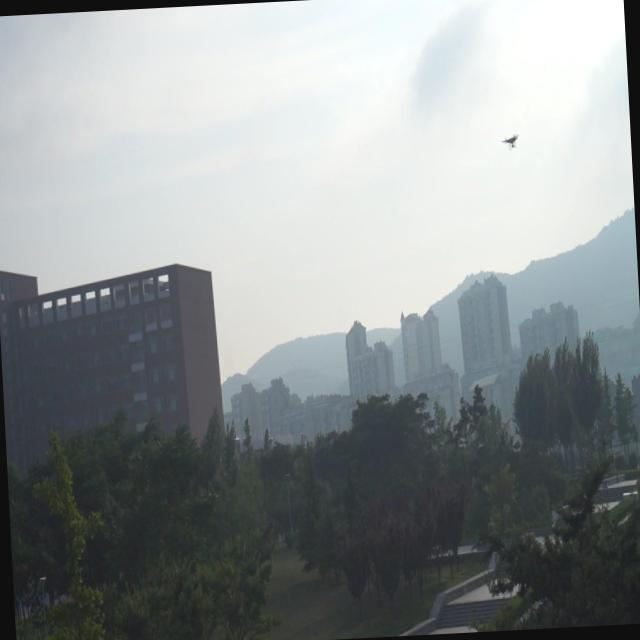drone: (498, 128, 522, 158)
